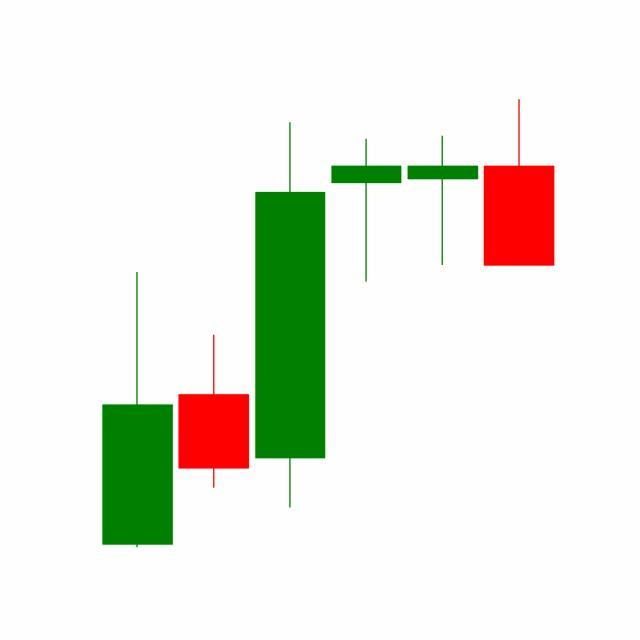Up-Down Gap Side-by-side White Lines: (252, 119, 482, 513)
